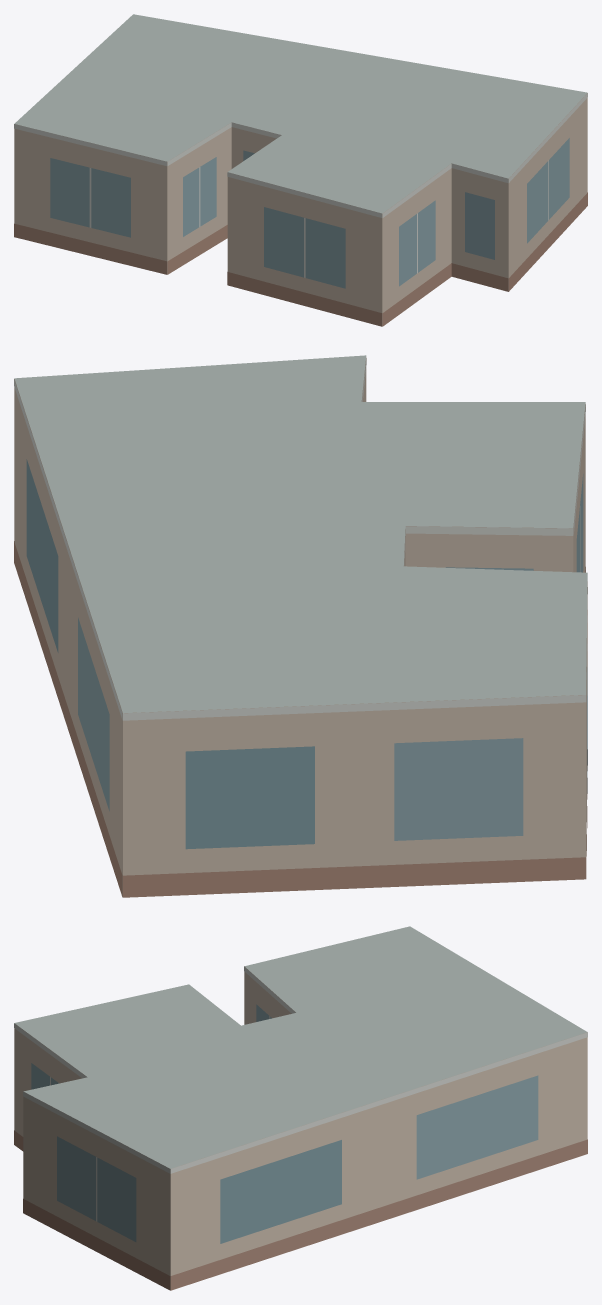
File: survey-upis-32626789.glb
The picture shows the model from 3 angles, top to bottom: view 1: azimuth 30°, elevation 25°; view 2: azimuth 150°, elevation 25°; view 3: azimuth 270°, elevation 25°; orthographic projection. The views are drawn at different scales.
Visible parts, largest first — view 1: survey-upis-32626789.tmp; view 2: survey-upis-32626789.tmp; view 3: survey-upis-32626789.tmp.
Boxes of the visible parts, box(x1,y1,x2,y2) form: survey-upis-32626789.tmp: box(14, 14, 587, 326); survey-upis-32626789.tmp: box(14, 355, 587, 897); survey-upis-32626789.tmp: box(14, 926, 587, 1290).
Bounding box in the file's own units: 13.05 × 3.05 × 13.03.
